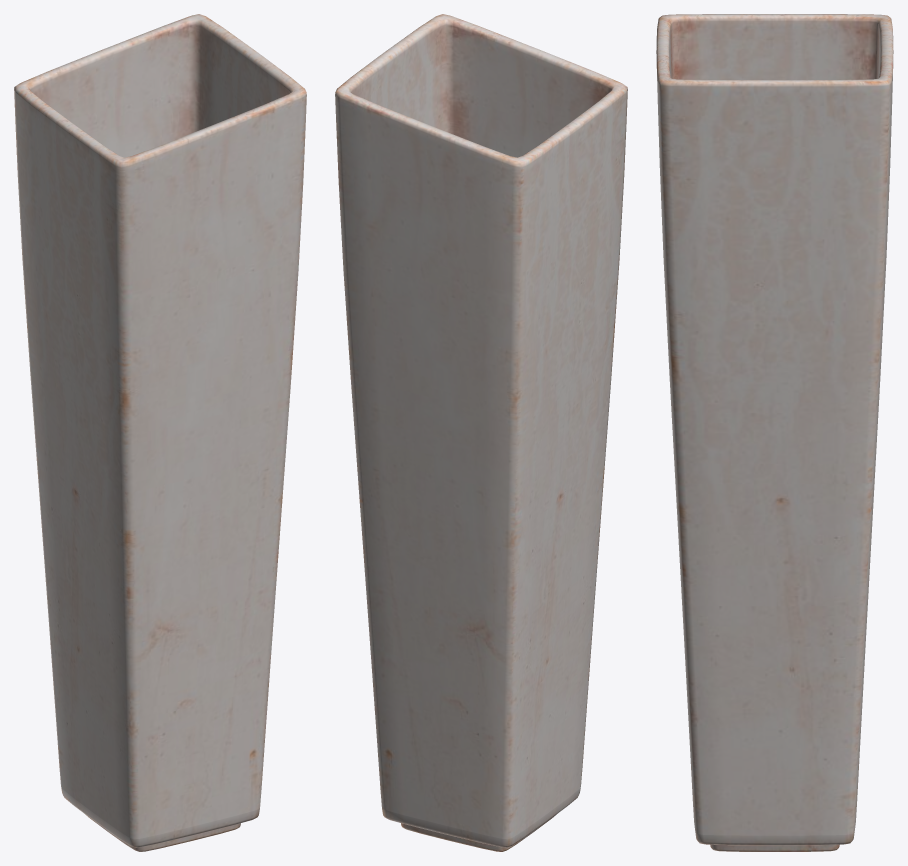
Rendered from ceramic_vase_03_1k.glb.
The picture shows the model from 3 angles, left to right: view 1: azimuth 30°, elevation 25°; view 2: azimuth 150°, elevation 25°; view 3: azimuth 270°, elevation 25°; orthographic projection. The views are drawn at different scales.
Visible parts, largest first — view 1: ceramic_vase_03; view 2: ceramic_vase_03; view 3: ceramic_vase_03.
Boxes of the visible parts, <box> form: ceramic_vase_03: <box>14,14,306,851</box>; ceramic_vase_03: <box>335,14,627,851</box>; ceramic_vase_03: <box>656,14,893,851</box>.
Bounding box in the file's own units: 0.1125 × 0.4144 × 0.1125.
1 material, 1 textured.
